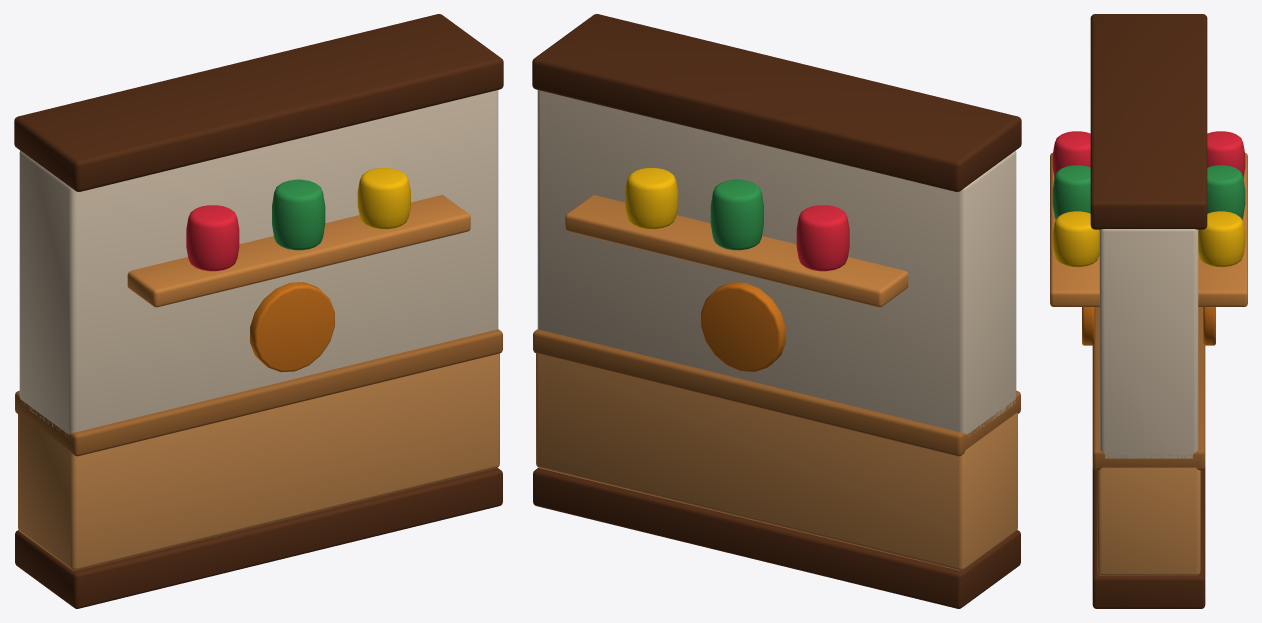
File: wall_decorated.gltf
3 views of the same model, side by side, from view 1: azimuth 30°, elevation 25°; view 2: azimuth 150°, elevation 25°; view 3: azimuth 270°, elevation 25° (orthographic). The views are drawn at different scales.
Parts seen in each view (by area): view 1: WallUpperCream; view 2: WallUpperCream; view 3: WallUpperCream.
Boxes of the visible parts, bbox=[...] form: WallUpperCream: bbox=[14, 14, 503, 608]; WallUpperCream: bbox=[532, 14, 1021, 608]; WallUpperCream: bbox=[1050, 14, 1247, 608].
Size of the model in its own units: 1 by 1 by 0.44.
